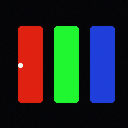0 point: (18, 63, 22, 67)
